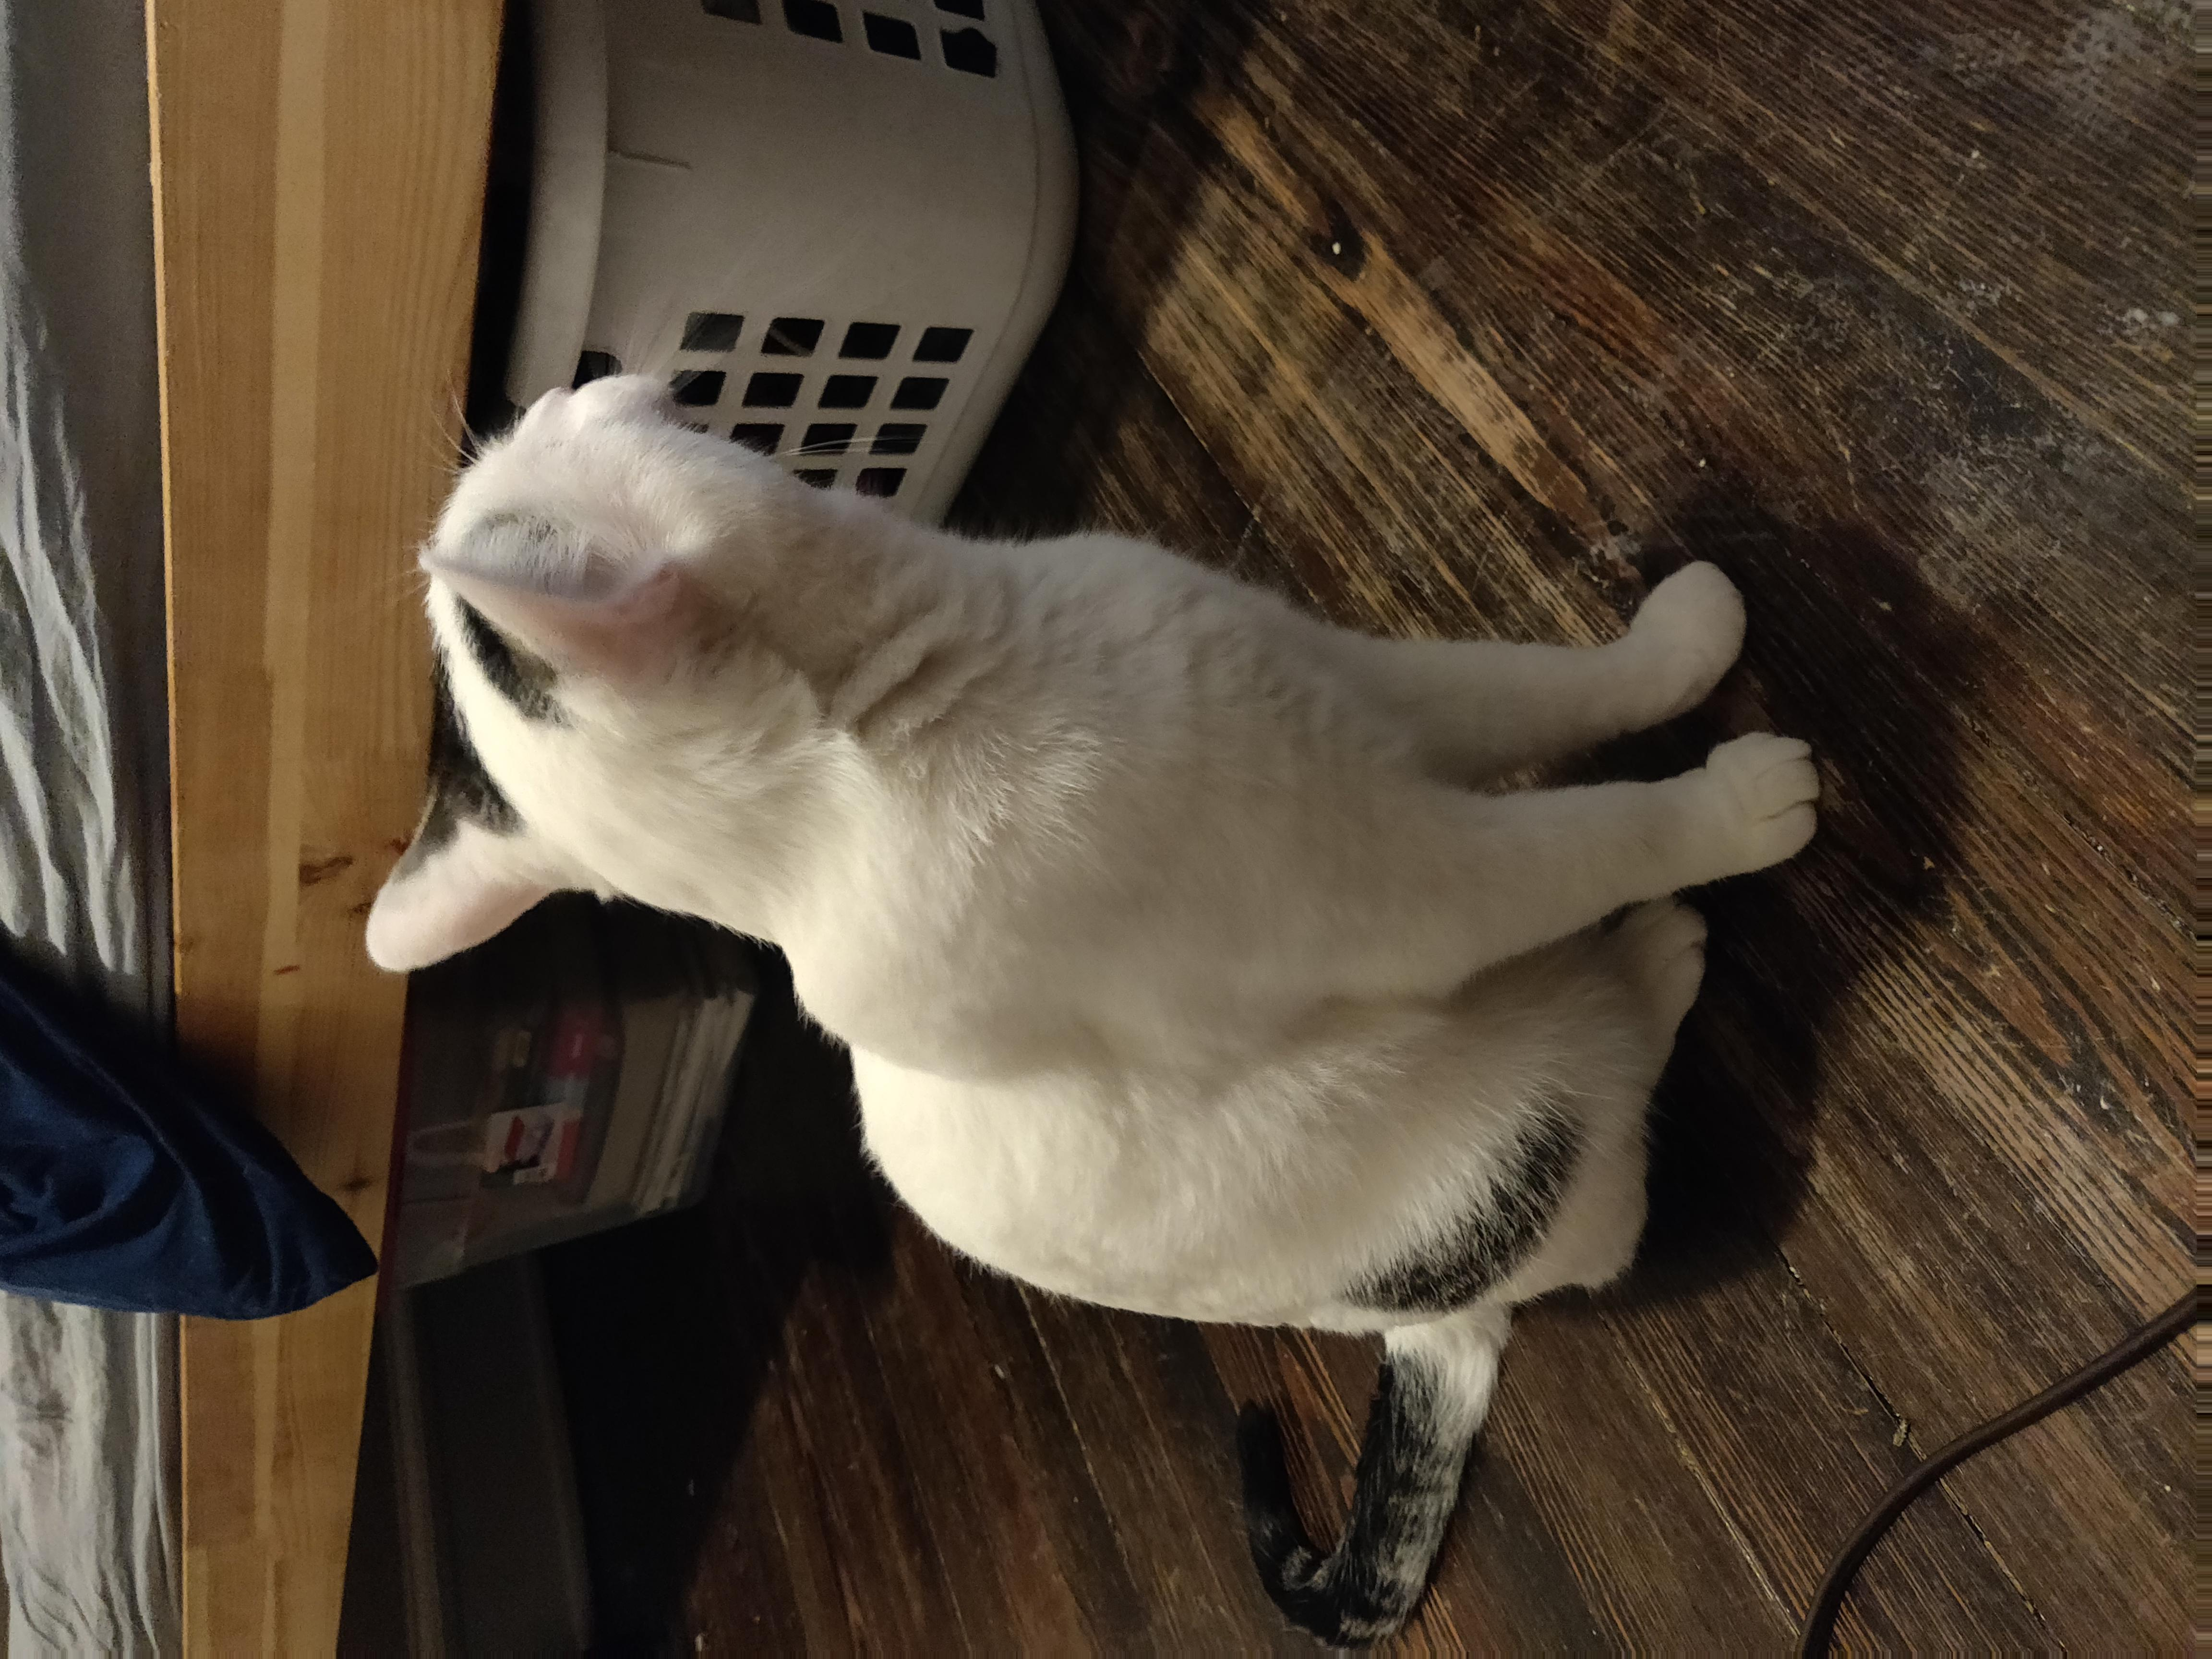cat: (388, 347, 1815, 1303)
